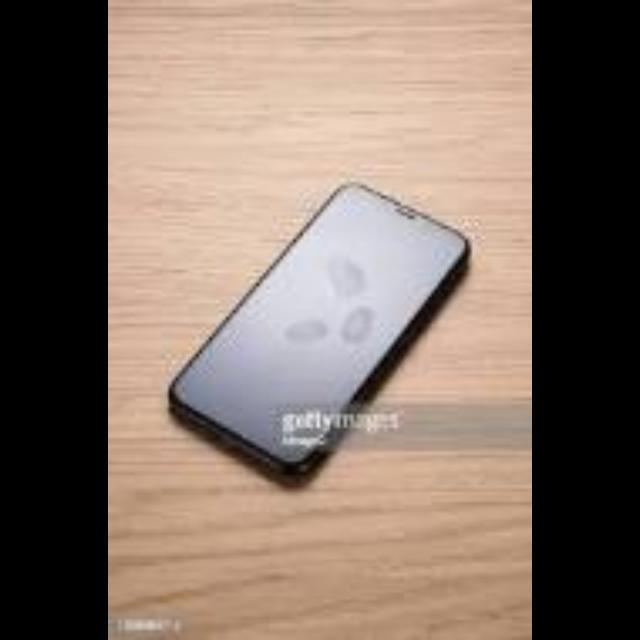Phone: (170, 184, 470, 476)
